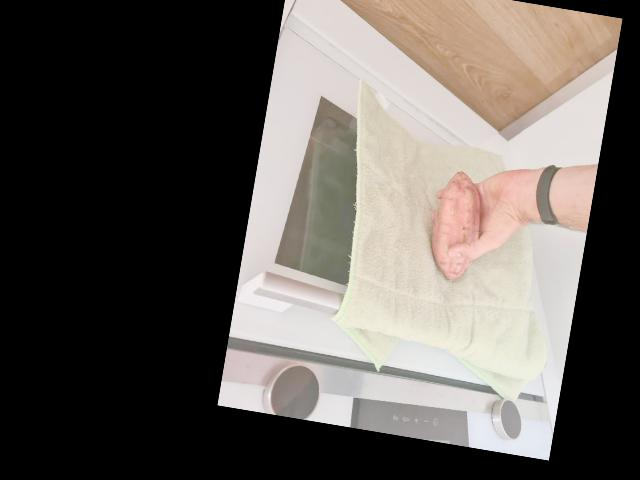sweet_potato: (428, 169, 488, 281)
